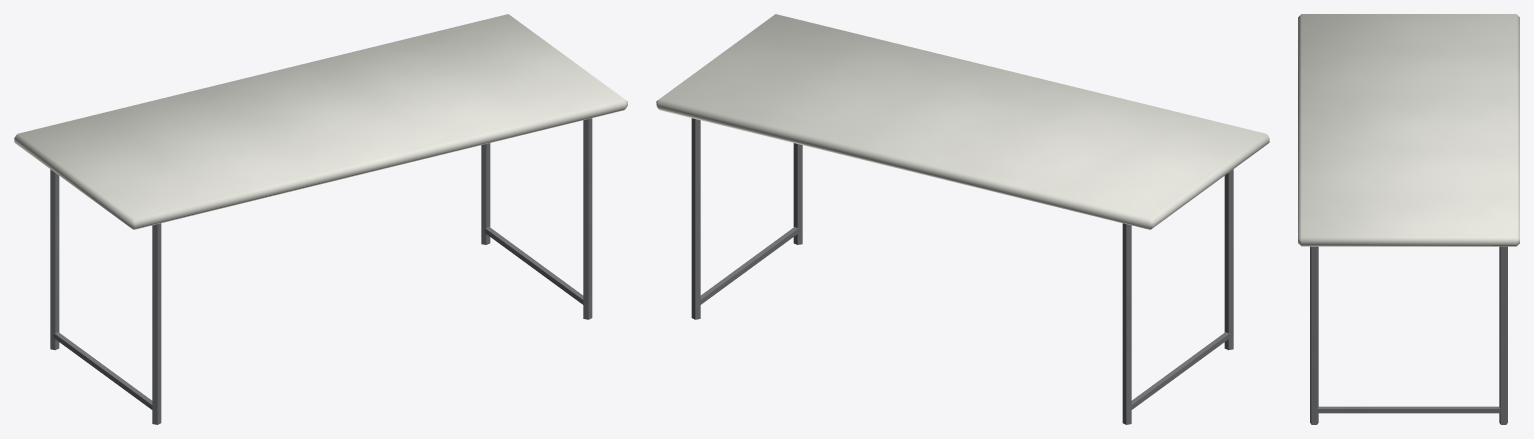
Rendered from mesa_dobravel.glb.
The picture shows the model from 3 angles, left to right: view 1: azimuth 30°, elevation 25°; view 2: azimuth 150°, elevation 25°; view 3: azimuth 270°, elevation 25°; orthographic projection. The views are drawn at different scales.
Parts seen in each view (by area): view 1: Inteiro; view 2: Inteiro; view 3: Inteiro.
Part boxes in pixels (left/top/right/bottom): Inteiro: left=14, top=14, right=627, bottom=424; Inteiro: left=656, top=14, right=1269, bottom=424; Inteiro: left=1298, top=14, right=1519, bottom=424.
Bounding box in the file's own units: 1.8 × 0.75 × 0.75.
Materials: 1 (1 with a texture image).
